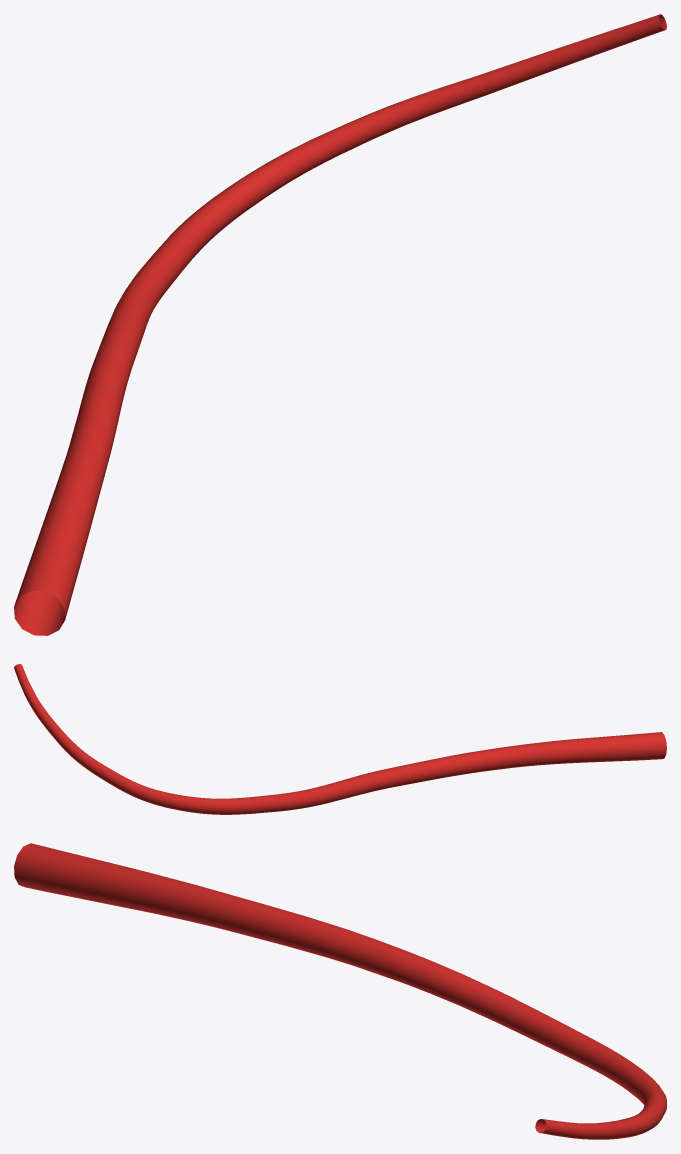
Rendered from circulatorio-posterior-circumflex-humeral-vein-l.glb.
3 views of the same model, one above another, from view 1: azimuth 30°, elevation 25°; view 2: azimuth 150°, elevation 25°; view 3: azimuth 270°, elevation 25° (orthographic). The views are drawn at different scales.
Parts seen in each view (by area): view 1: Posterior circumflex humeral vein.l; view 2: Posterior circumflex humeral vein.l; view 3: Posterior circumflex humeral vein.l.
Part boxes in pixels (box(x1,y1,x2,y2)): Posterior circumflex humeral vein.l: box(14, 14, 666, 635); Posterior circumflex humeral vein.l: box(14, 664, 666, 814); Posterior circumflex humeral vein.l: box(14, 843, 666, 1139).
Bounding box in the file's own units: 0.0517 × 0.00913 × 0.0362.
